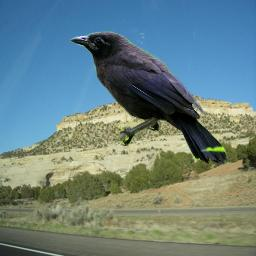Crow: (70, 31, 228, 165)
